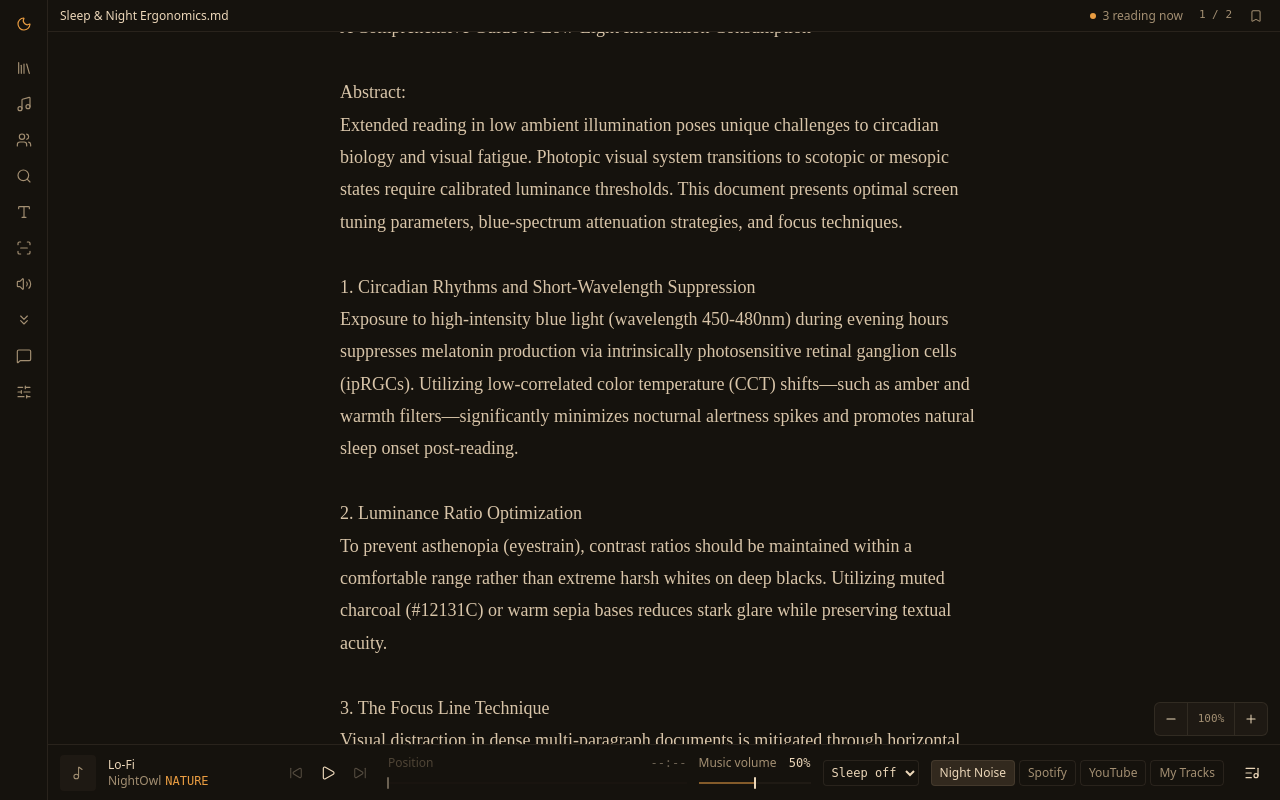
App rooms › opens rooms from the command palette, and offers Leave room only inside one
(page scrolled)
Press k
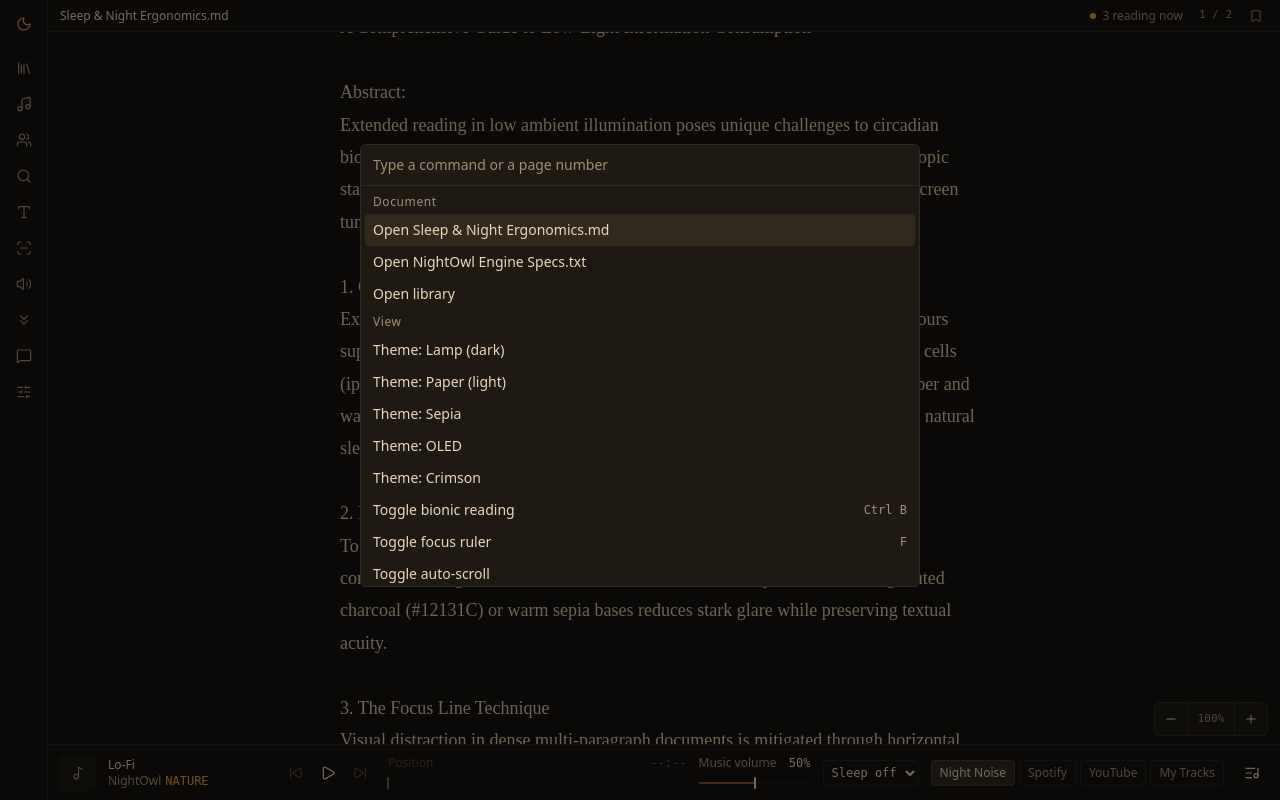
Type "rooms" into the dropdown at {"x": 640, "y": 166}, box top-left (361, 145), bottom-right (919, 186)
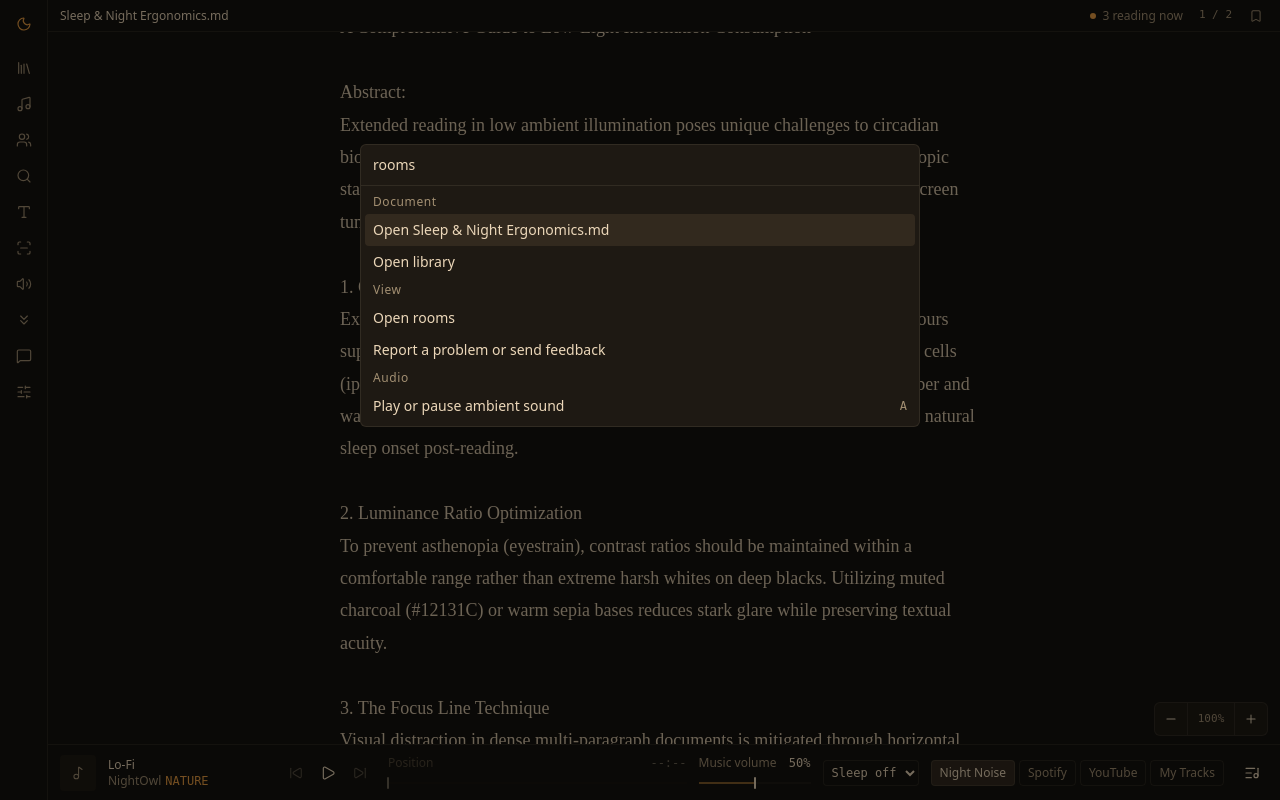
Click the option "Open rooms" at {"x": 414, "y": 318}, box top-left (373, 308), bottom-right (455, 327)
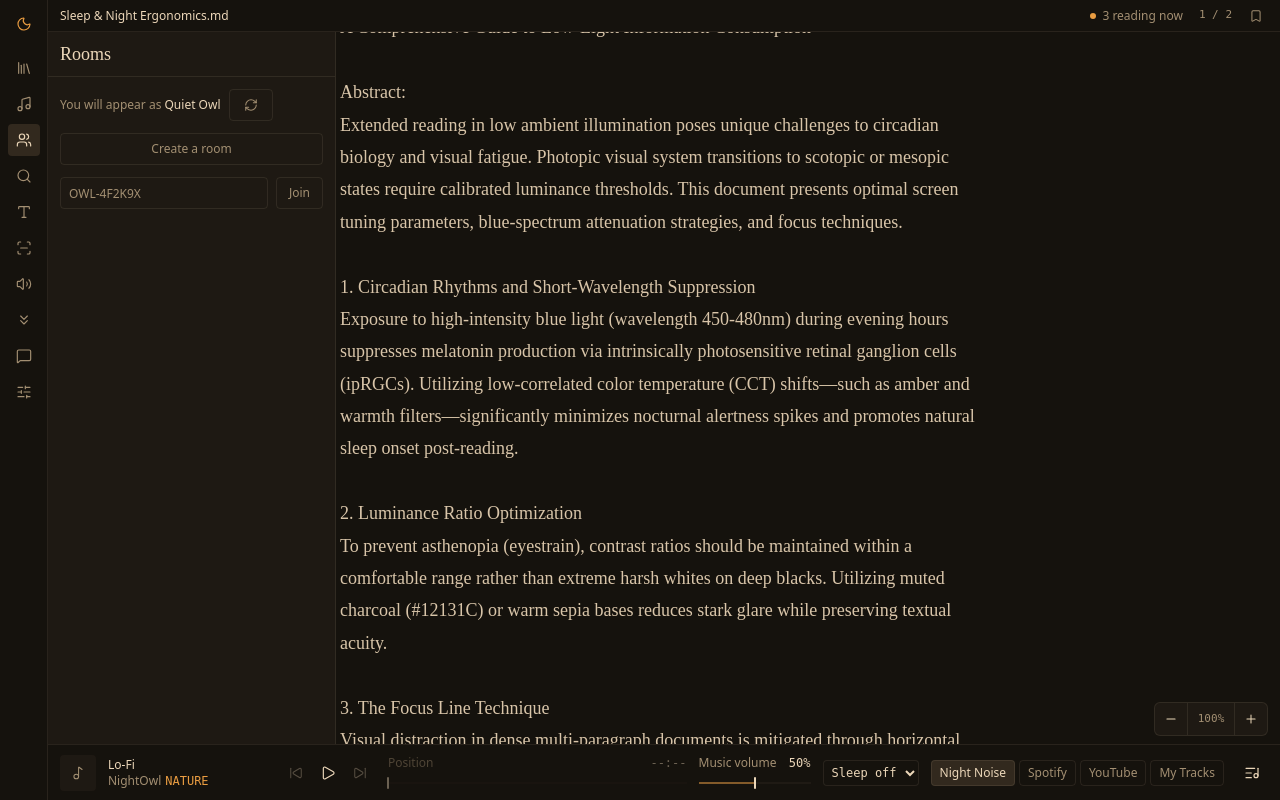
Now the element "Rooms" is shown, box top-left (48, 32), bottom-right (336, 744)
